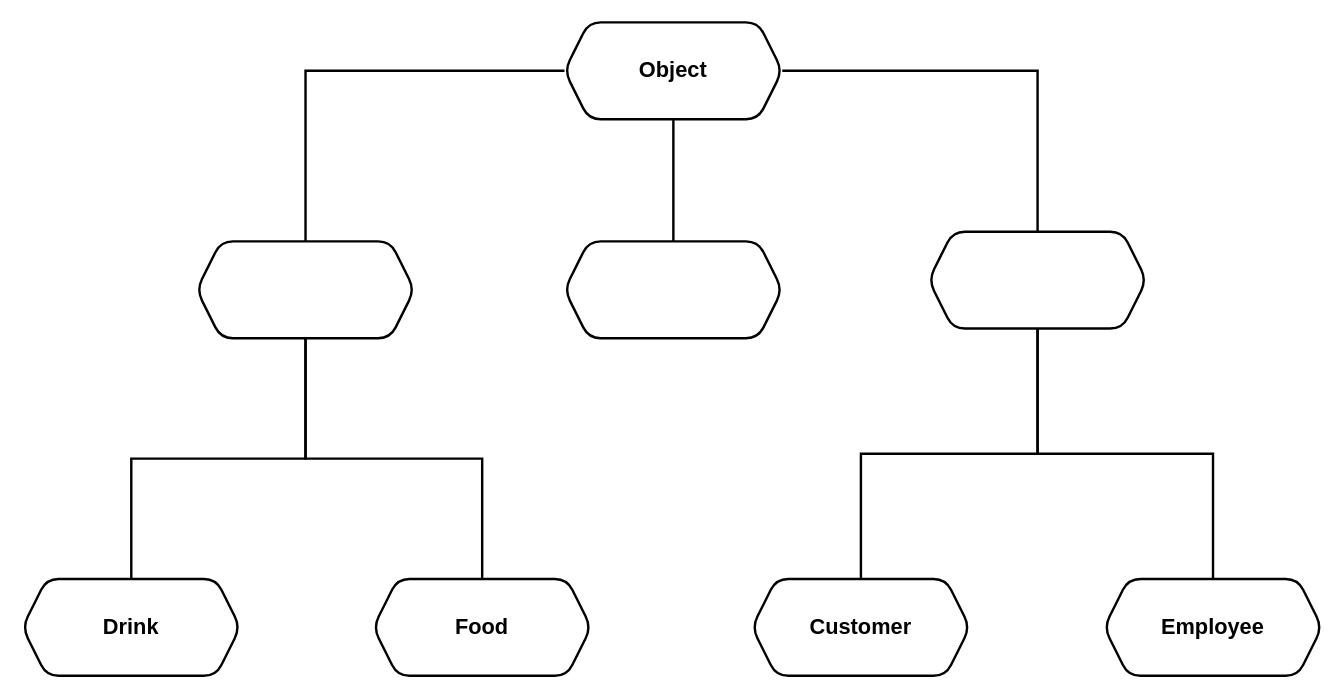
Image size: 1343x697. Some labels were removed from this diagram. The shapes that lost their labels are listed below. From the top down, each one's centre as x and y in pixels, then its label:
(305,289): Item
(673,289): Store
(1037,279): People
